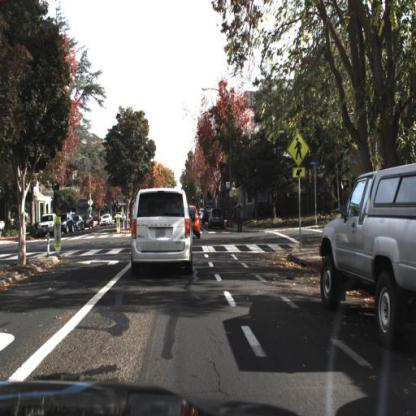car: (319, 159, 416, 343), (130, 186, 195, 278), (186, 203, 203, 245), (39, 212, 62, 237), (250, 200, 273, 224), (206, 207, 227, 232), (56, 213, 75, 238), (59, 213, 75, 236), (210, 208, 225, 231), (72, 215, 87, 237), (83, 212, 96, 234), (99, 215, 113, 231), (100, 214, 115, 228)
pedestrian: (235, 202, 245, 235), (236, 201, 244, 233)
